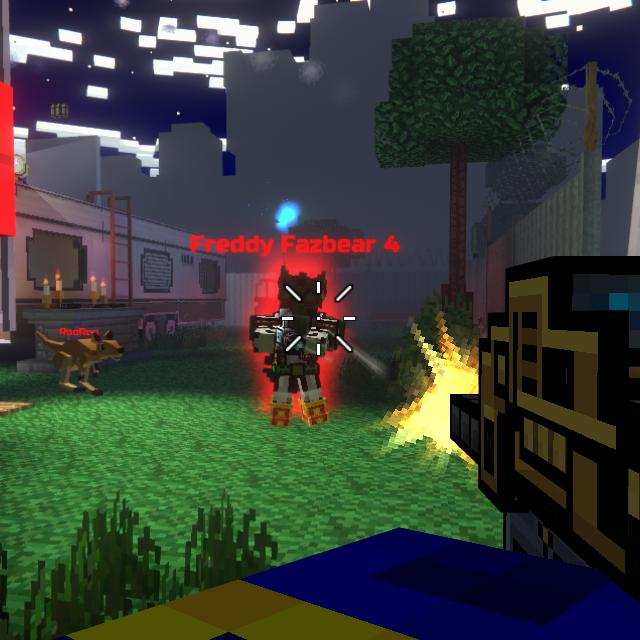Enemy: (249, 272, 344, 428)
